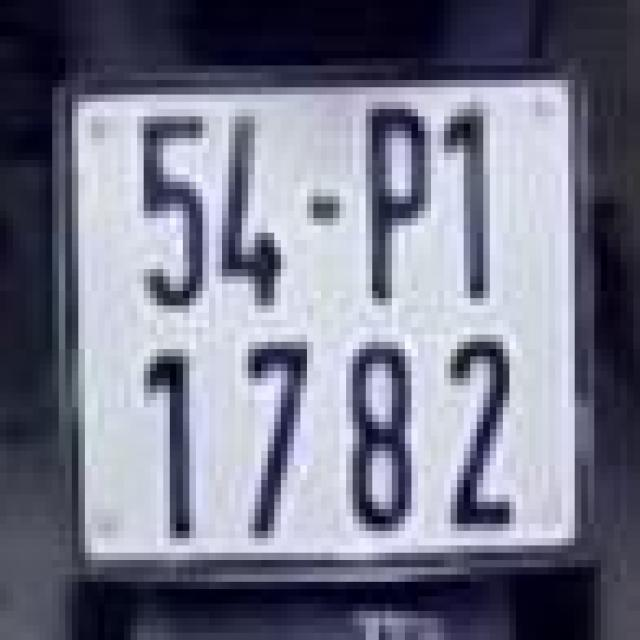1: (137, 327, 222, 553), (438, 84, 510, 309)
2: (438, 316, 536, 534)
4: (215, 95, 294, 327)
5: (131, 91, 209, 316)
7: (229, 320, 320, 553)
8: (333, 320, 438, 545)
P: (343, 87, 441, 320)
